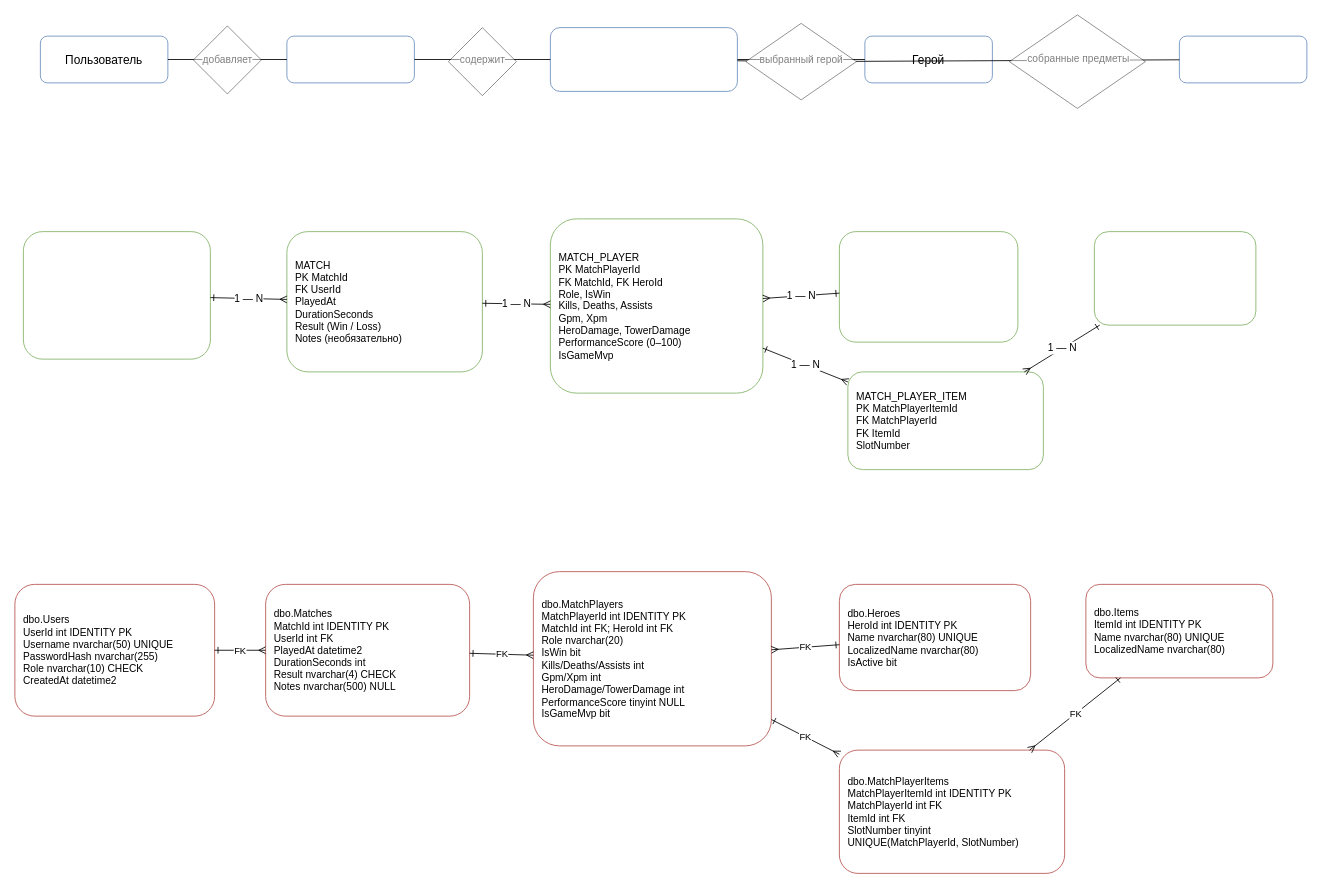
The diagram is 1322 pixels wide and 888 high, and some of its shapes have lost their labels. Here are the shapes that lost their labels. From the top down, the centre of each, then its label:
[350,59]: Матч
[643,59]: Участие игрока в матче (статистика и результат)
[1243,59]: Предмет
[116,295]: USER PK UserId Username (уникальный) PasswordHash Role (Admin / User) CreatedAt
[928,286]: HERO PK HeroId Name (уникальный) LocalizedName IsActive
[1175,278]: ITEM PK ItemId Name (уникальный) LocalizedName
